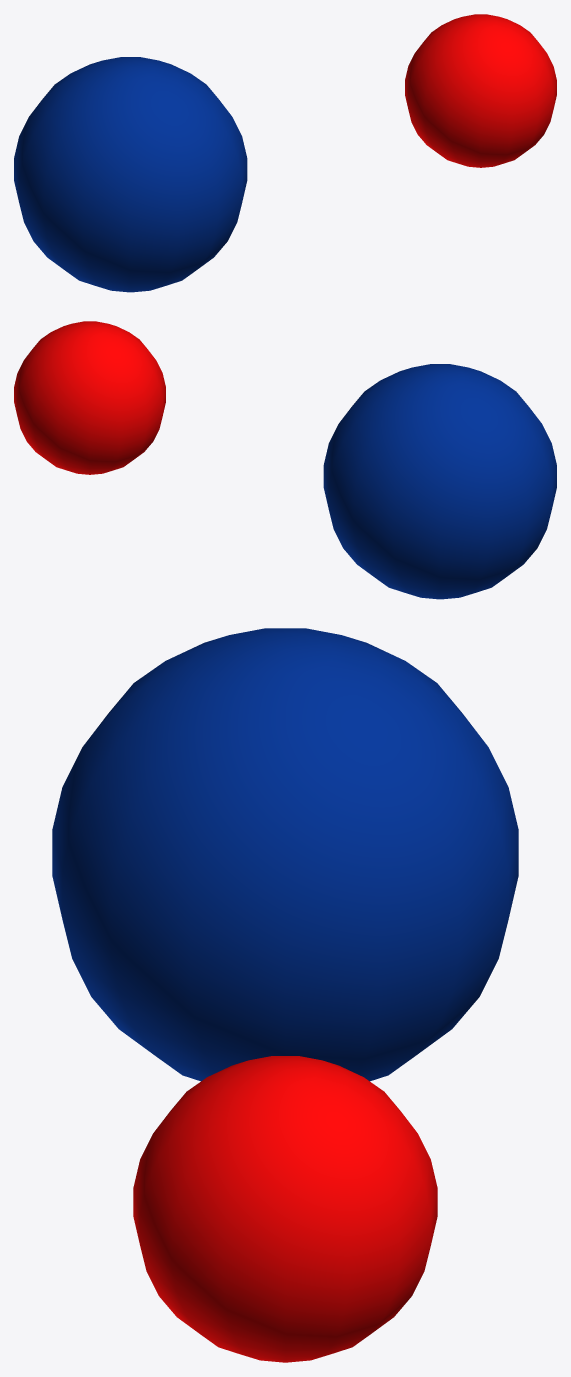
Rendered from blue_and_red1.fbx.
3 renders of one model, top to bottom at view 1: azimuth 30°, elevation 25°; view 2: azimuth 150°, elevation 25°; view 3: azimuth 270°, elevation 25°, orthographic. The views are drawn at different scales.
Visible parts, largest first — view 1: blue_sphere, red_sphere; view 2: blue_sphere, red_sphere; view 3: blue_sphere, red_sphere.
Part boxes in pixels (x1,y1,x2,y2): blue_sphere: (14,57,247,292); red_sphere: (405,14,556,167); blue_sphere: (323,364,556,599); red_sphere: (14,321,165,474); blue_sphere: (52,628,518,1081); red_sphere: (133,1056,437,1362).
Size of the model in its own units: 390 by 154 by 153.
Materials: 1 (1 with a texture image).
